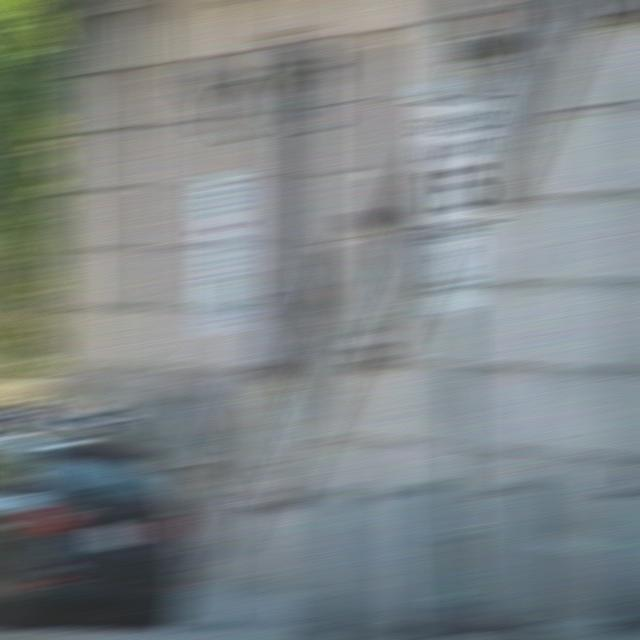speedLimit15: (420, 103, 498, 224)
